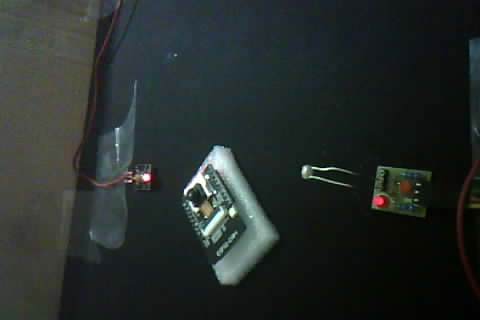esp32: (175, 146, 272, 276)
